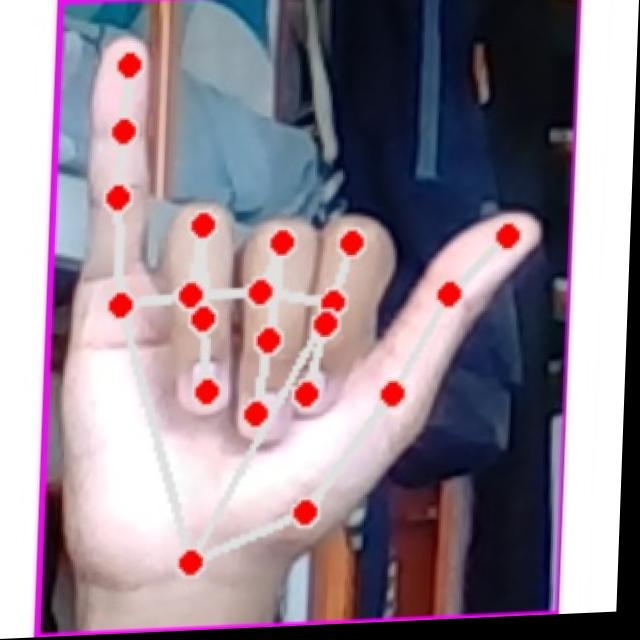Y: (64, 17, 549, 590)
